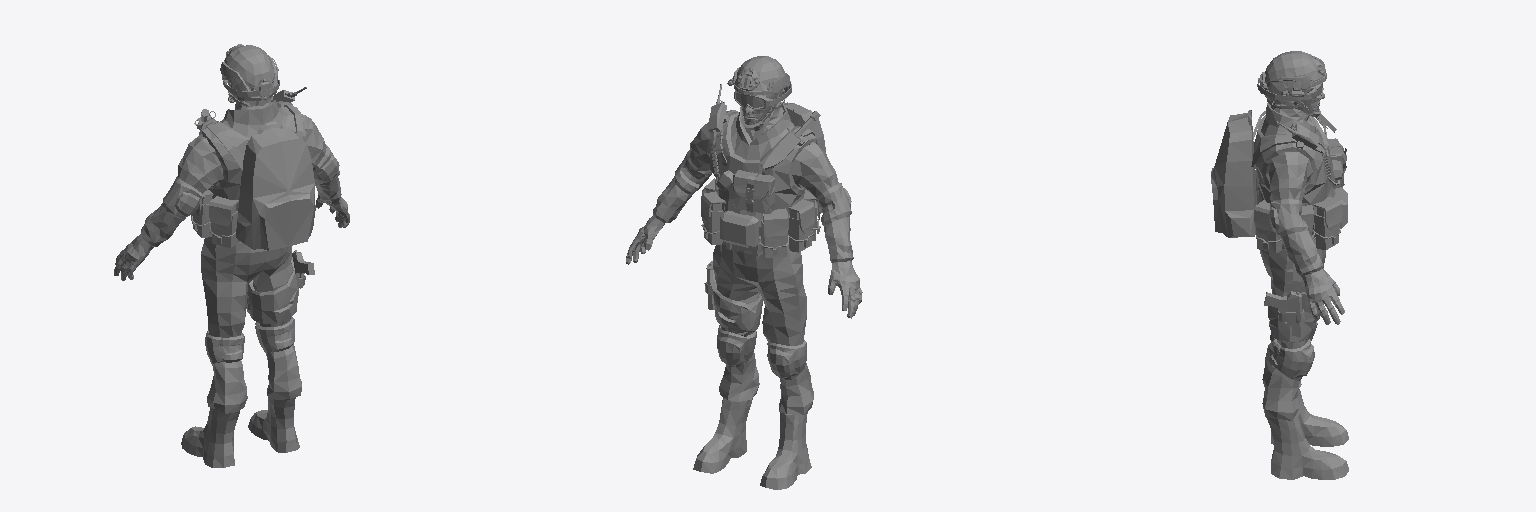
The model's file is soldier.obj.
3 views of the same model, side by side, from view 1: azimuth 30°, elevation 25°; view 2: azimuth 150°, elevation 25°; view 3: azimuth 270°, elevation 25° (orthographic).
Visible parts, largest first — view 1: body, leg, head; view 2: body, leg, head; view 3: body, leg, head.
Boxes of the visible parts, box(x1,y1,x2,y2) form: body: box(114, 87, 349, 280); leg: box(181, 237, 314, 467); head: box(220, 44, 279, 109); body: box(626, 84, 862, 318); leg: box(693, 240, 813, 489); head: box(727, 56, 791, 141); body: box(1211, 102, 1347, 324); leg: box(1260, 234, 1348, 479); head: box(1257, 51, 1326, 123).
Bounding box in the file's own units: 42.94 × 73.32 × 22.81.